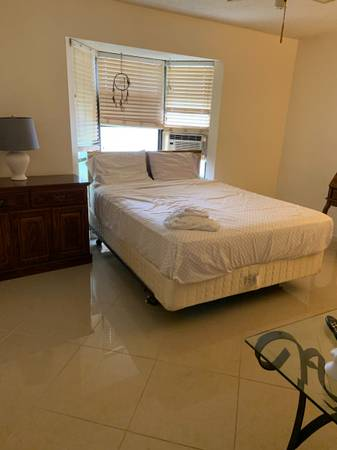bed: (88, 151, 332, 312)
dresser: (1, 174, 91, 282)
lamp: (2, 116, 40, 182)
